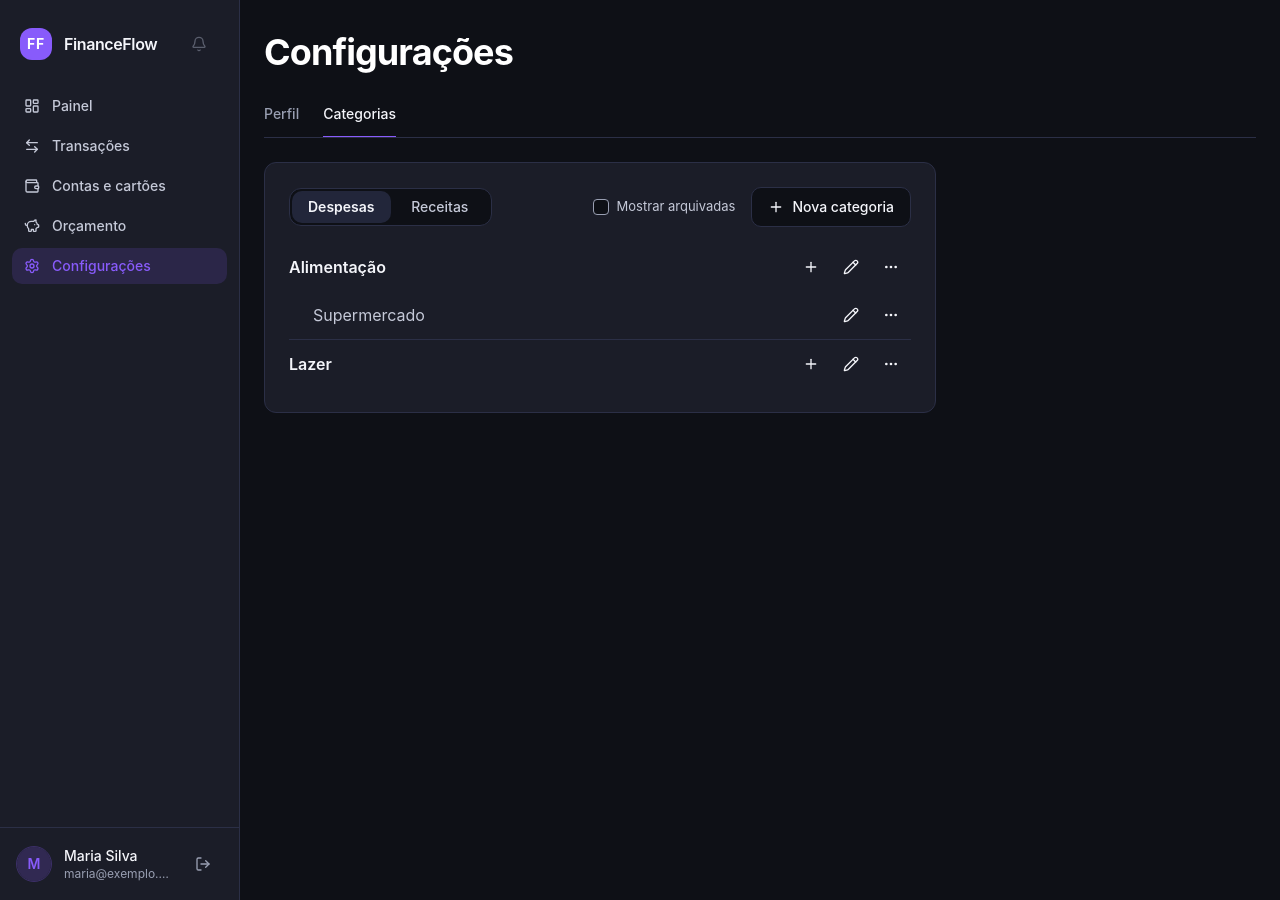
configurações: categorias › cria uma subcategoria do mesmo tipo da categoria pai
This screenshot has width=1280, height=900.
Click the button named "Adicionar subcategoria em Alimentação".
click(811, 267)  # box left=791, top=247, right=831, bottom=287
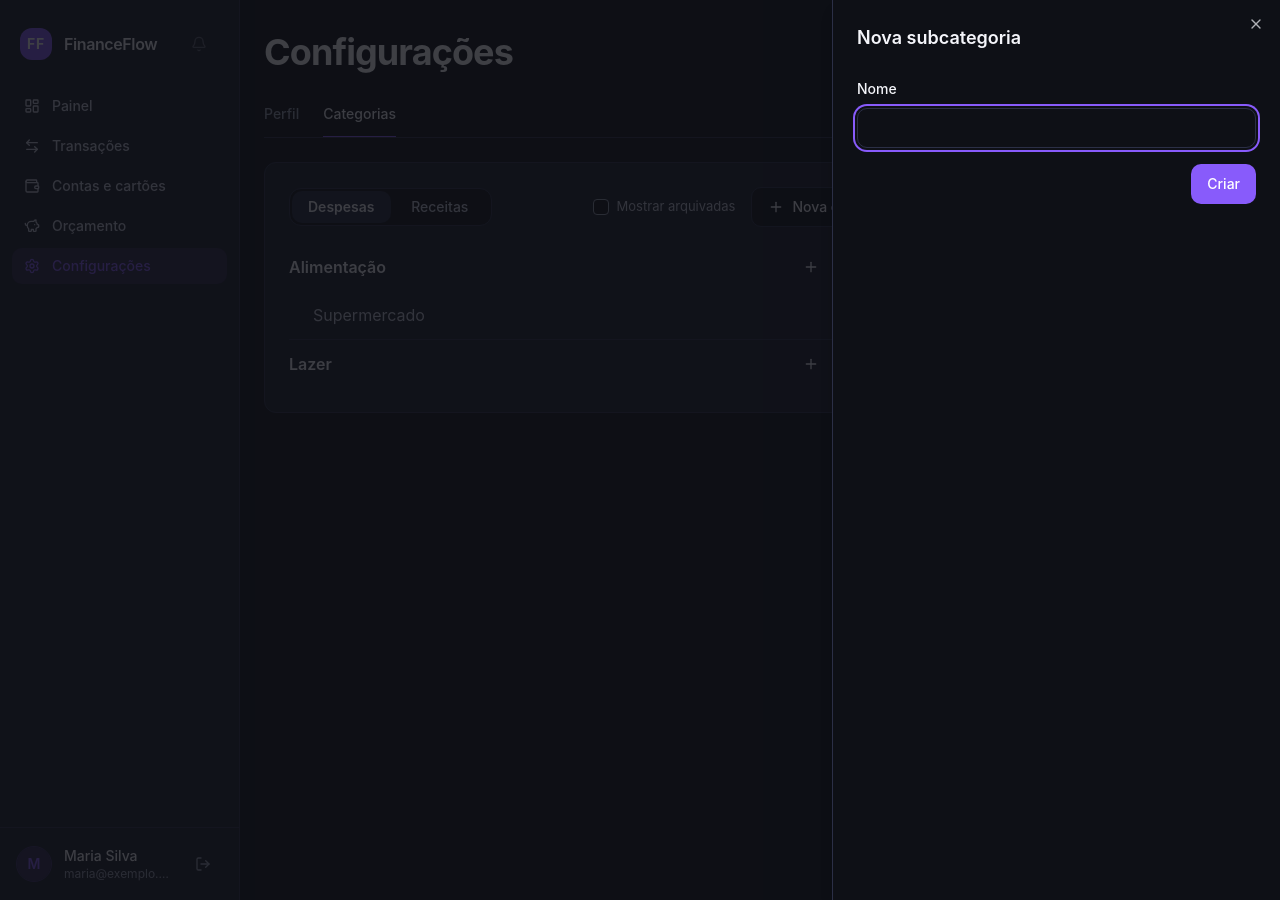
Type "Padaria" into the field labelled "Nome".
click(1056, 128); type("Padaria")  # box left=857, top=108, right=1256, bottom=148
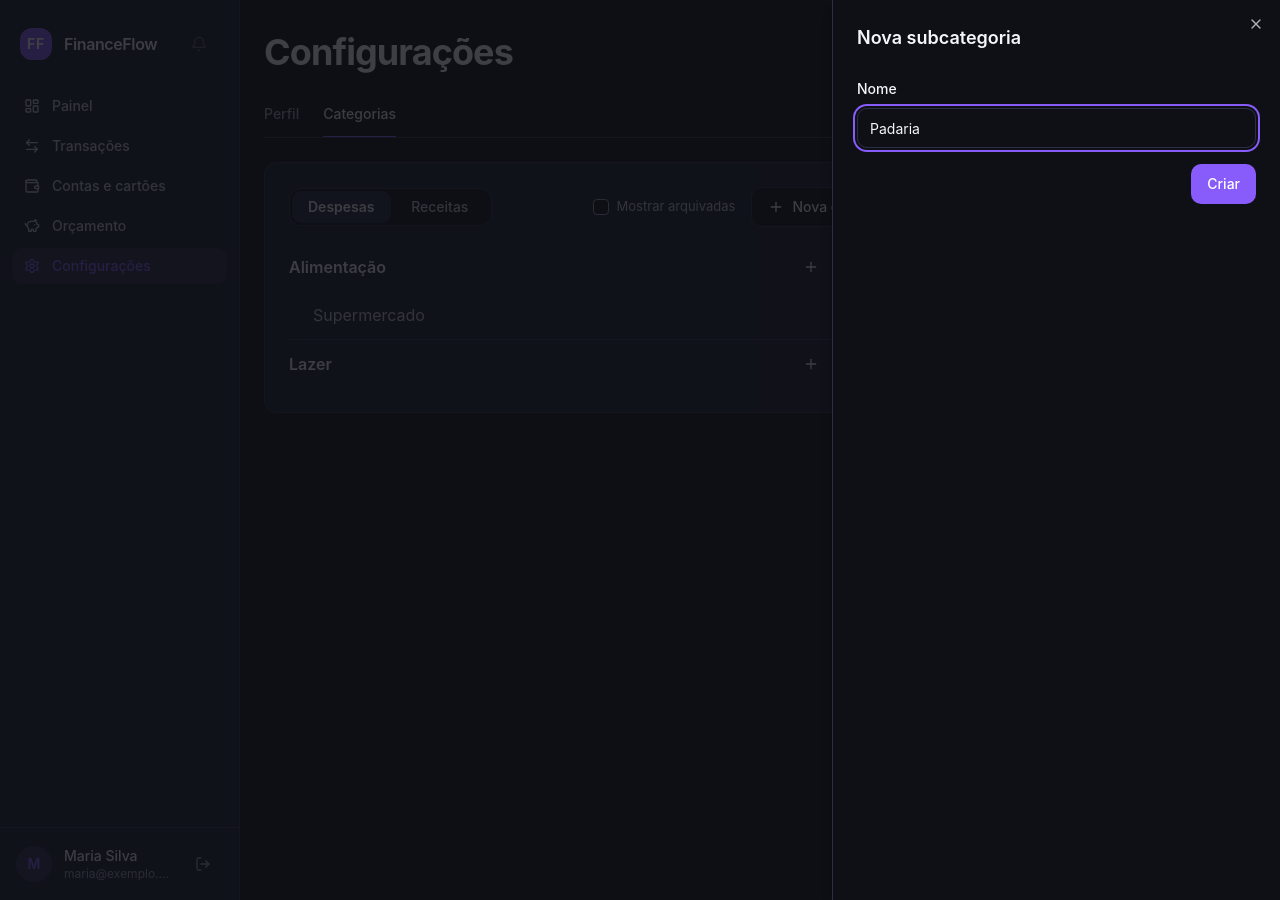
Click the button "Criar".
click(1224, 184)  # box left=1191, top=164, right=1256, bottom=204
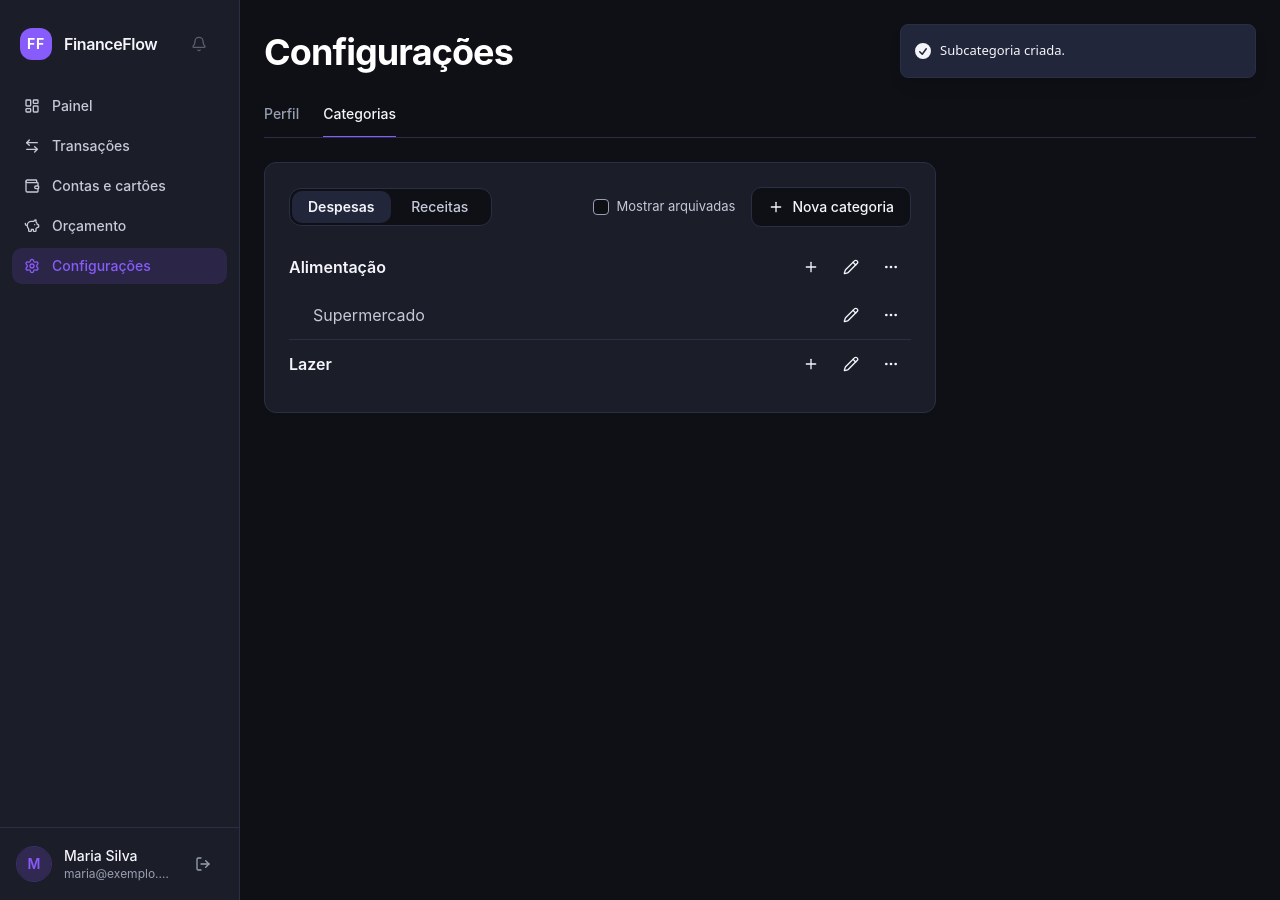
expect the text "Subcategoria criada." is shown: met, box left=940, top=41, right=1065, bottom=60
